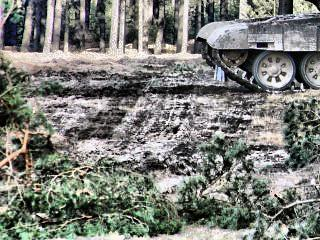tanks: (197, 12, 320, 92), (298, 1, 320, 12)
